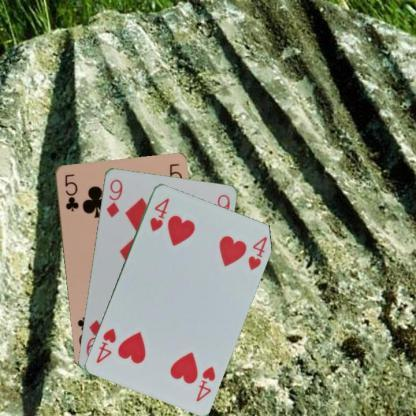4h: (194, 363, 216, 403), (147, 195, 170, 233)
5c: (62, 171, 80, 213)
9d: (102, 176, 124, 218)
